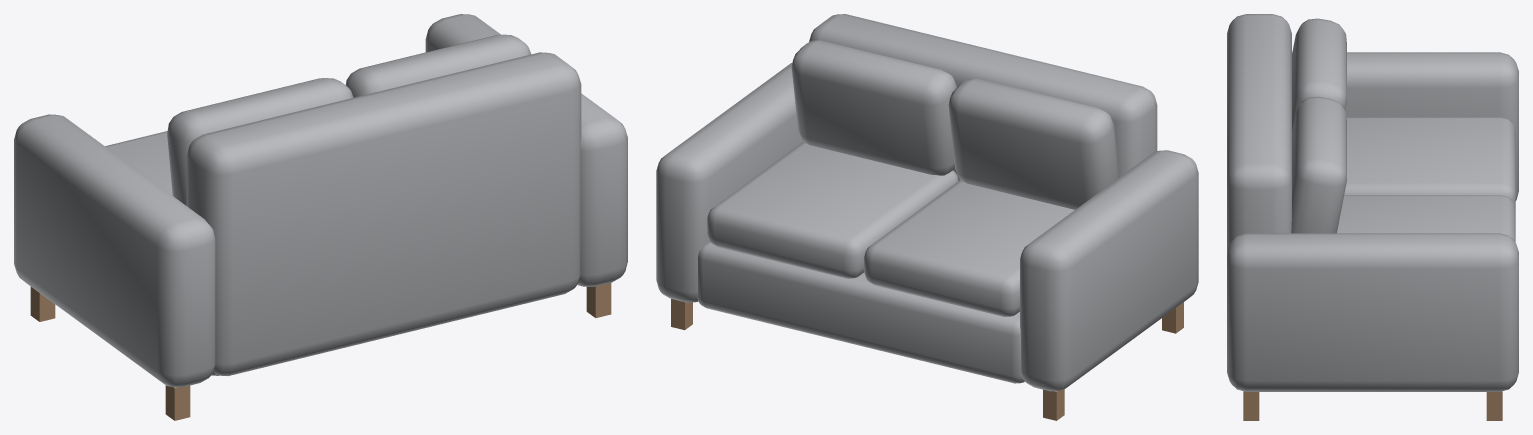
Rendered from furniture.seat.sofa_2.glb.
The picture shows the model from 3 angles, left to right: view 1: azimuth 30°, elevation 25°; view 2: azimuth 150°, elevation 25°; view 3: azimuth 270°, elevation 25°; orthographic projection. The views are drawn at different scales.
Parts seen in each view (by area): view 1: frame__fabric_grey, soft__fabric_grey, frame__hardwood; view 2: frame__fabric_grey, soft__fabric_grey, frame__hardwood; view 3: frame__fabric_grey, soft__fabric_grey, frame__hardwood.
Boxes of the visible parts, <box> form: frame__fabric_grey: <box>14,14,627,387</box>; soft__fabric_grey: <box>105,34,531,205</box>; frame__hardwood: <box>30,283,611,420</box>; frame__fabric_grey: <box>656,14,1198,391</box>; soft__fabric_grey: <box>707,40,1119,316</box>; frame__hardwood: <box>671,299,1183,420</box>; frame__fabric_grey: <box>1227,14,1518,391</box>; soft__fabric_grey: <box>1291,18,1515,242</box>; frame__hardwood: <box>1243,391,1502,420</box>.
Bounding box in the file's own units: 1.5 × 0.8007 × 0.9.
